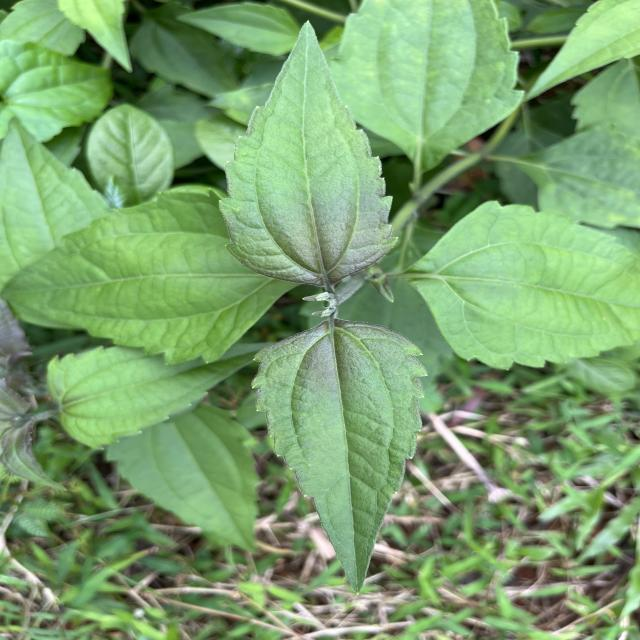Chromolaena odorata: (246, 313, 434, 596), (215, 13, 403, 290)
